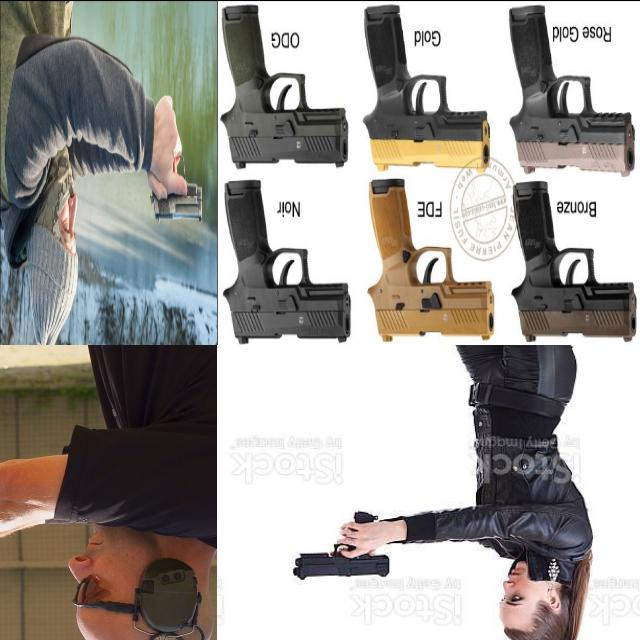handgun: (506, 3, 636, 178), (361, 2, 492, 175), (218, 2, 349, 170), (220, 178, 351, 344), (365, 175, 495, 342), (510, 178, 638, 344), (286, 505, 390, 583), (0, 503, 70, 595), (148, 145, 204, 228)
